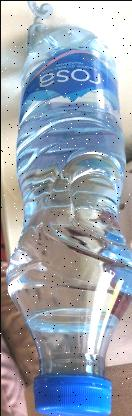Plastic Bottle: (5, 0, 130, 416)
